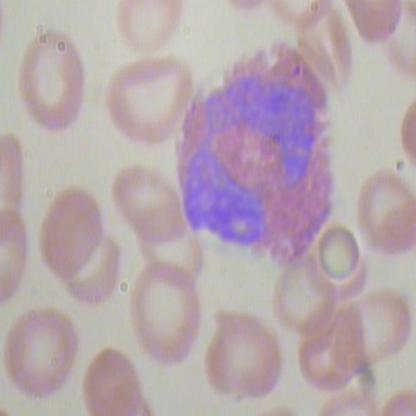RBC: (101, 57, 202, 150), (121, 256, 204, 368), (14, 22, 90, 134), (202, 306, 286, 406), (1, 300, 84, 401), (330, 286, 410, 378), (36, 185, 108, 283), (110, 164, 190, 248), (354, 168, 415, 262), (62, 231, 122, 311), (81, 345, 146, 415), (0, 202, 35, 314), (318, 221, 362, 281)
WBC: (162, 37, 342, 268)
